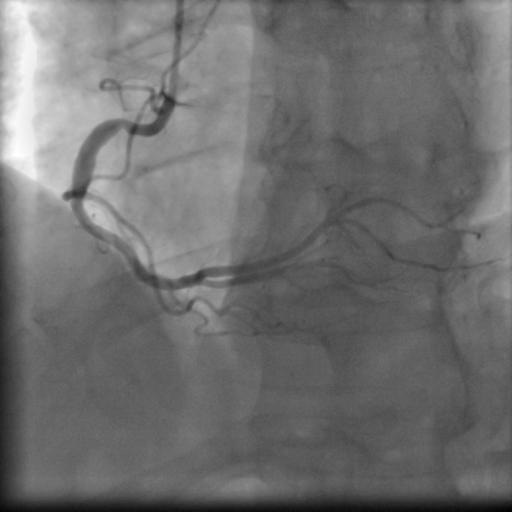Stenosis: (69, 199, 89, 216)
